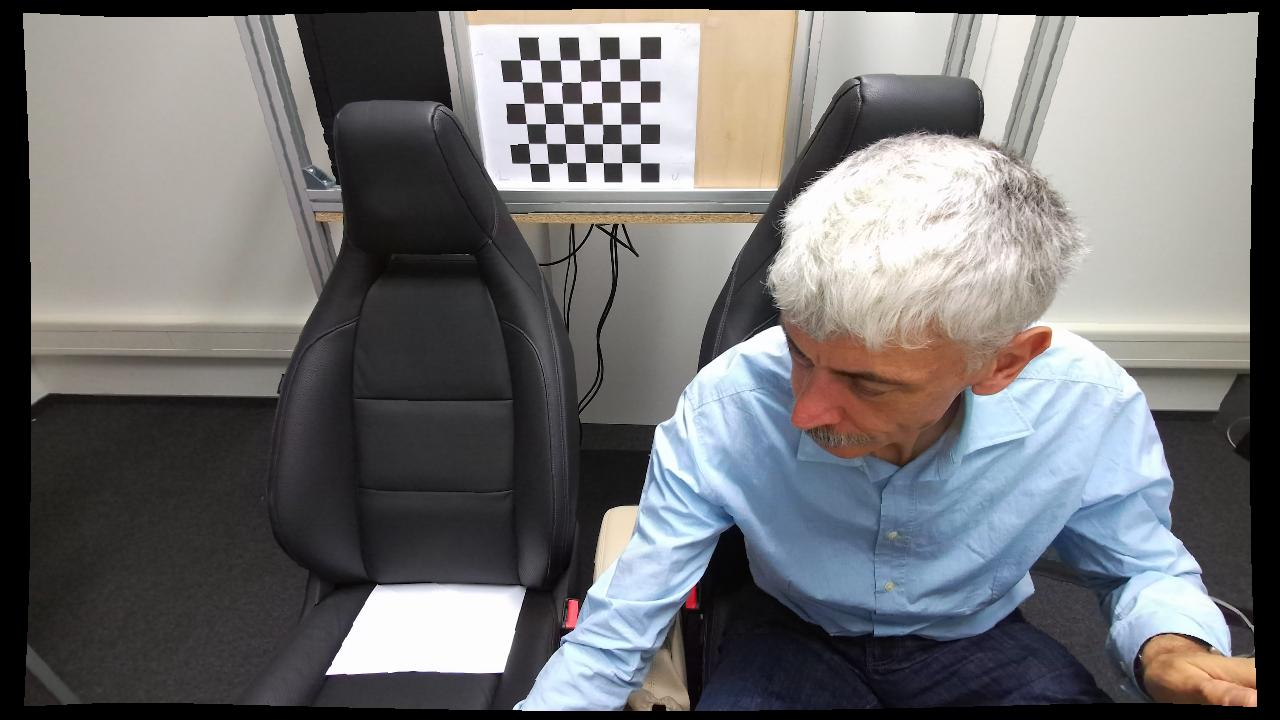Distracted: (514, 134, 1206, 711)
